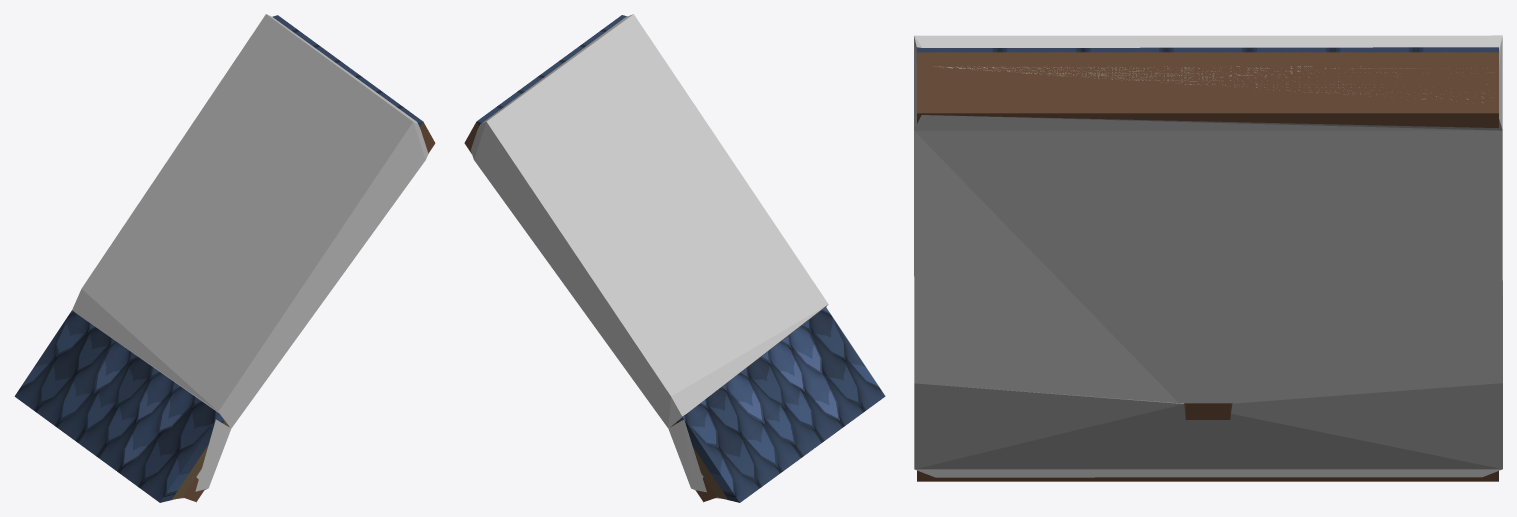
The model's file is SM_Bld_Roof_Straight_01.fbx.
3 renders of one model, left to right at view 1: azimuth 30°, elevation 25°; view 2: azimuth 150°, elevation 25°; view 3: azimuth 270°, elevation 25°, orthographic. The views are drawn at different scales.
Visible parts, largest first — view 1: SM_Bld_Roof_Straight_01_ConvexHulls, SM_Bld_Roof_Straight_01; view 2: SM_Bld_Roof_Straight_01_ConvexHulls, SM_Bld_Roof_Straight_01; view 3: SM_Bld_Roof_Straight_01_ConvexHulls, SM_Bld_Roof_Straight_01.
Boxes of the visible parts, x1,y1,x2,y2 form: SM_Bld_Roof_Straight_01_ConvexHulls: (72, 14, 428, 498); SM_Bld_Roof_Straight_01: (14, 15, 435, 502); SM_Bld_Roof_Straight_01_ConvexHulls: (471, 14, 828, 498); SM_Bld_Roof_Straight_01: (464, 15, 885, 502); SM_Bld_Roof_Straight_01_ConvexHulls: (914, 35, 1502, 477); SM_Bld_Roof_Straight_01: (917, 47, 1498, 481).
Size of the model in its own units: 273 by 253 by 311.
Materials: 4 (3 with a texture image).
